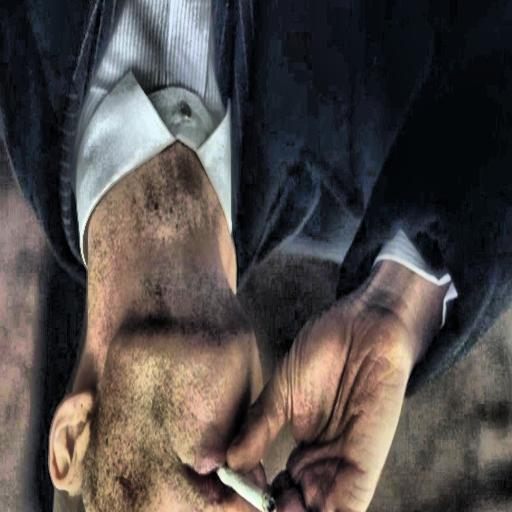Merokok: (216, 466, 276, 512)
Rokok: (50, 146, 443, 512)
